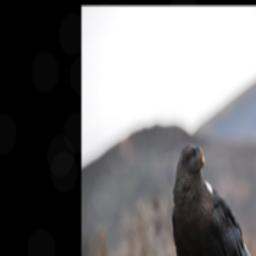Crow: (170, 141, 256, 256)
